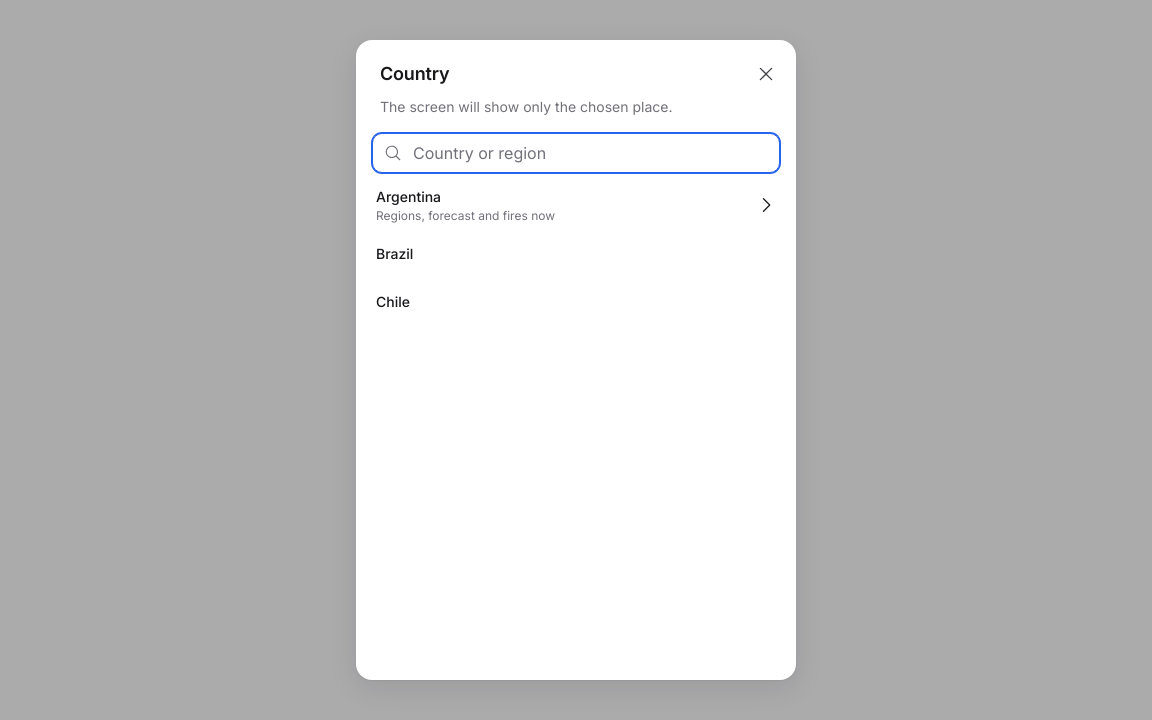
Test: RegionDialog › searches the provinces on the second step and says when nothing is found
This screenshot has width=1152, height=720.
Click the option "Argentina Regions, forecast and fires now" at (409, 196), box top-left (364, 181), bottom-right (788, 229)
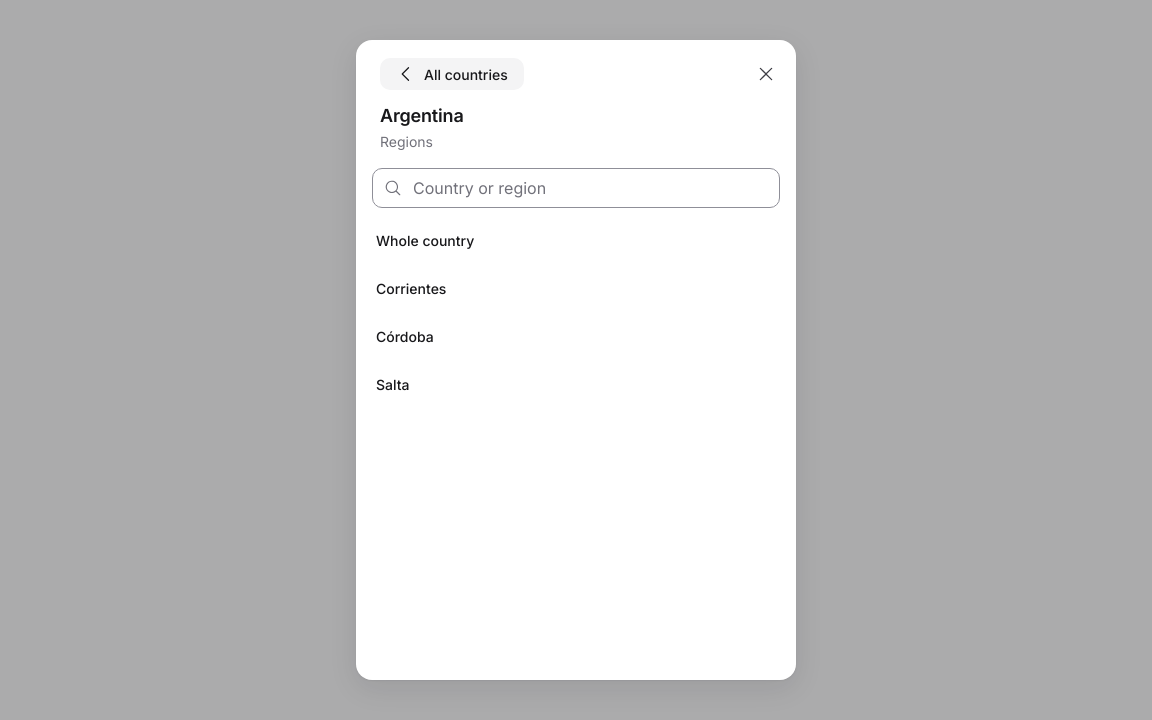
Type "cordoba" into the search field labelled "Country or region" at (576, 188), box top-left (372, 168), bottom-right (780, 208)
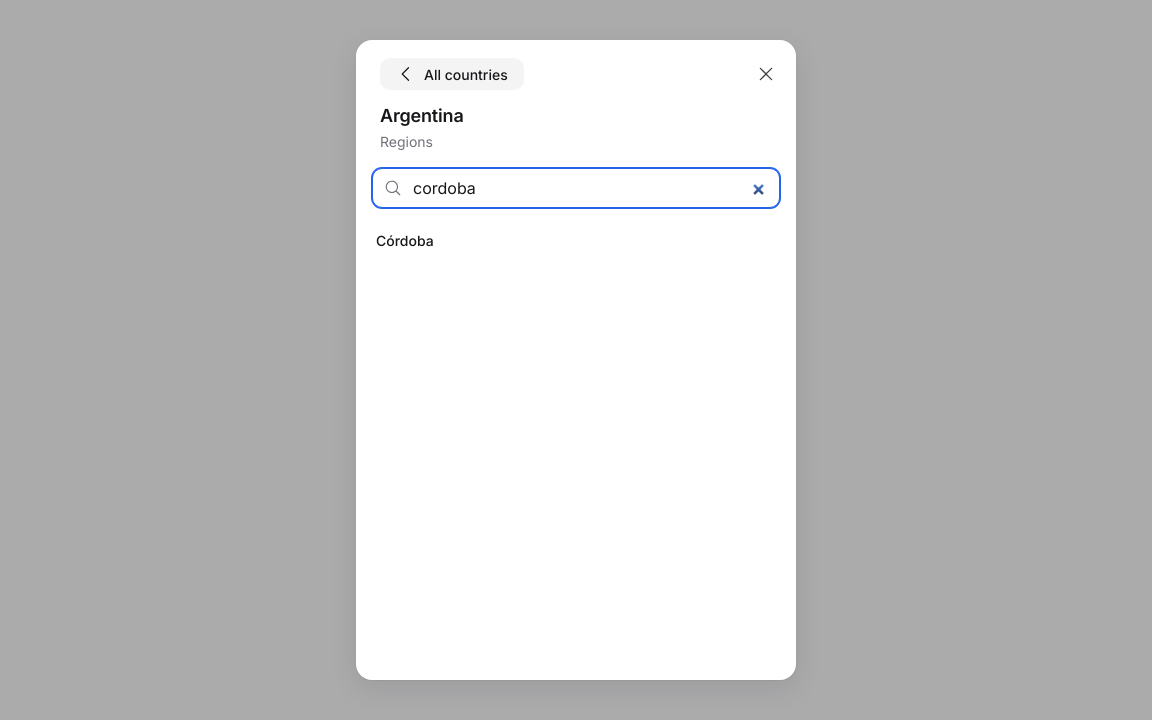
Result: the option "Córdoba" is shown at top-left (364, 216), bottom-right (788, 264)
Result: the option "Whole country" is gone
Replace the text in the search field named "Country or region" with "zzz" at (576, 188), box top-left (372, 168), bottom-right (780, 208)
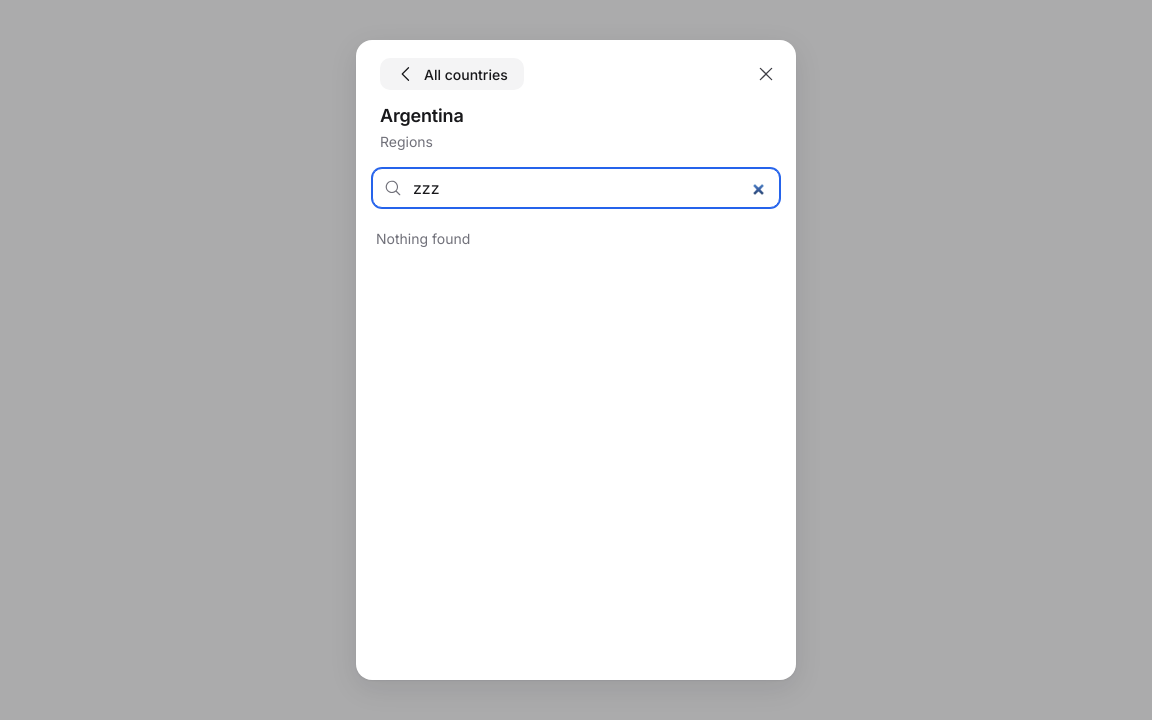
Result: the text "Nothing found" is shown at top-left (376, 230), bottom-right (470, 247)
